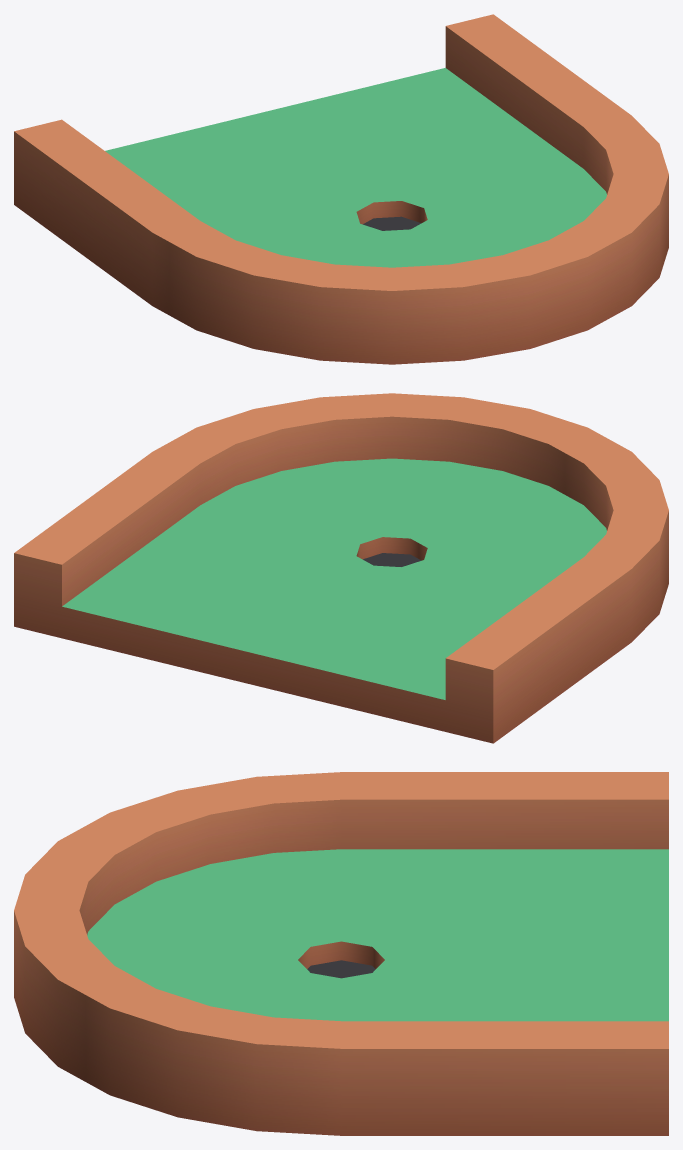
Rendered from hole-round.glb.
3 views of the same model, one above another, from view 1: azimuth 30°, elevation 25°; view 2: azimuth 150°, elevation 25°; view 3: azimuth 270°, elevation 25° (orthographic). The views are drawn at different scales.
Parts seen in each view (by area): view 1: hole-round; view 2: hole-round; view 3: hole-round.
Boxes of the visible parts, bbox=[...] form: hole-round: bbox=[14, 14, 668, 364]; hole-round: bbox=[14, 393, 668, 743]; hole-round: bbox=[14, 772, 668, 1135].
Size of the model in its own units: 0.9999 by 0.1466 by 0.9999.
Materials: 1 (1 with a texture image).
